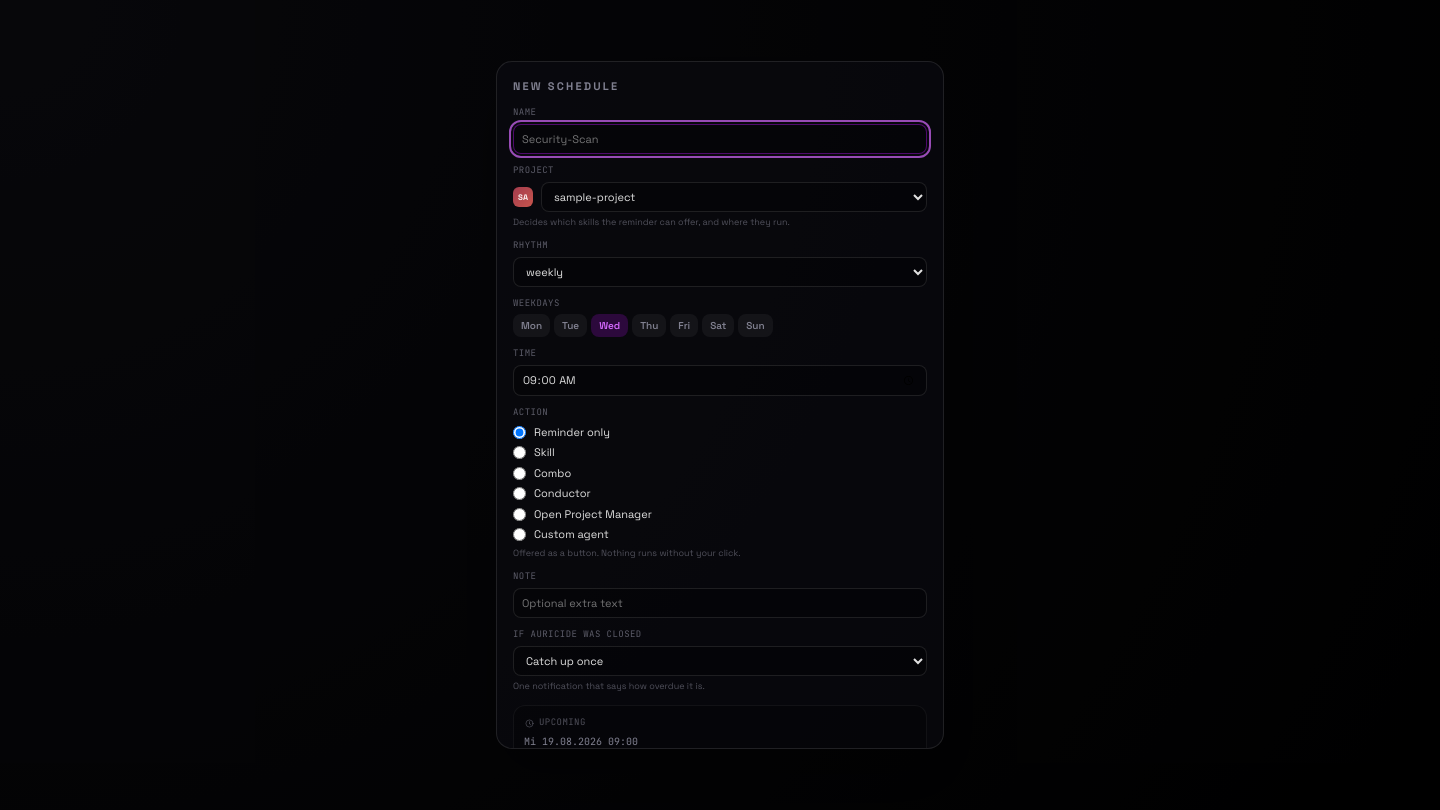
Test: ScheduleEditor › skill, combo, and the project they belong to › cannot save a Combo choice with nothing selected
Type "Weekly" into the field with test id "schedule-name" at (720, 139), box [513,124,927,154]
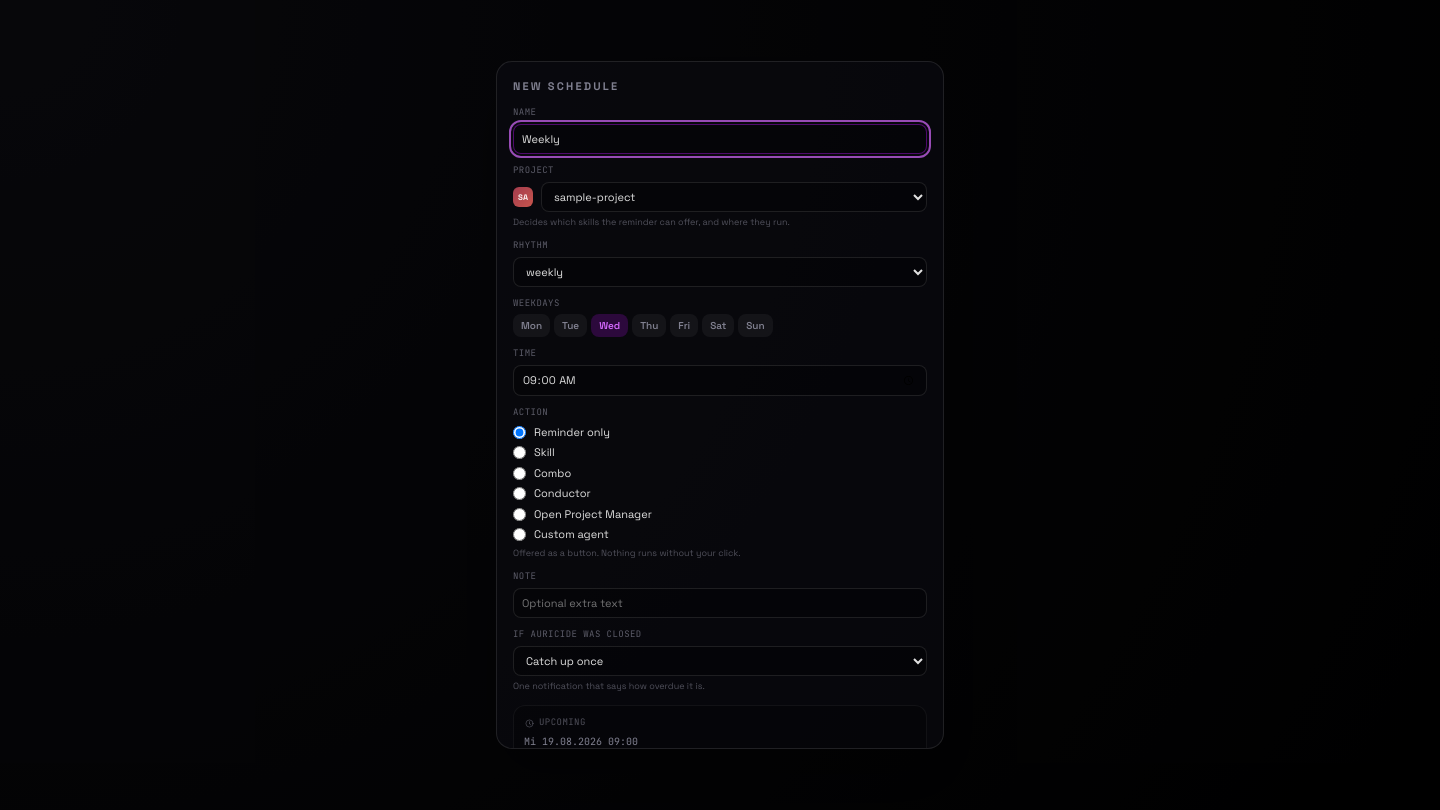
Click the radio button with test id "schedule-action-combo" at (520, 473), box [513,466,526,480]
(page scrolled)
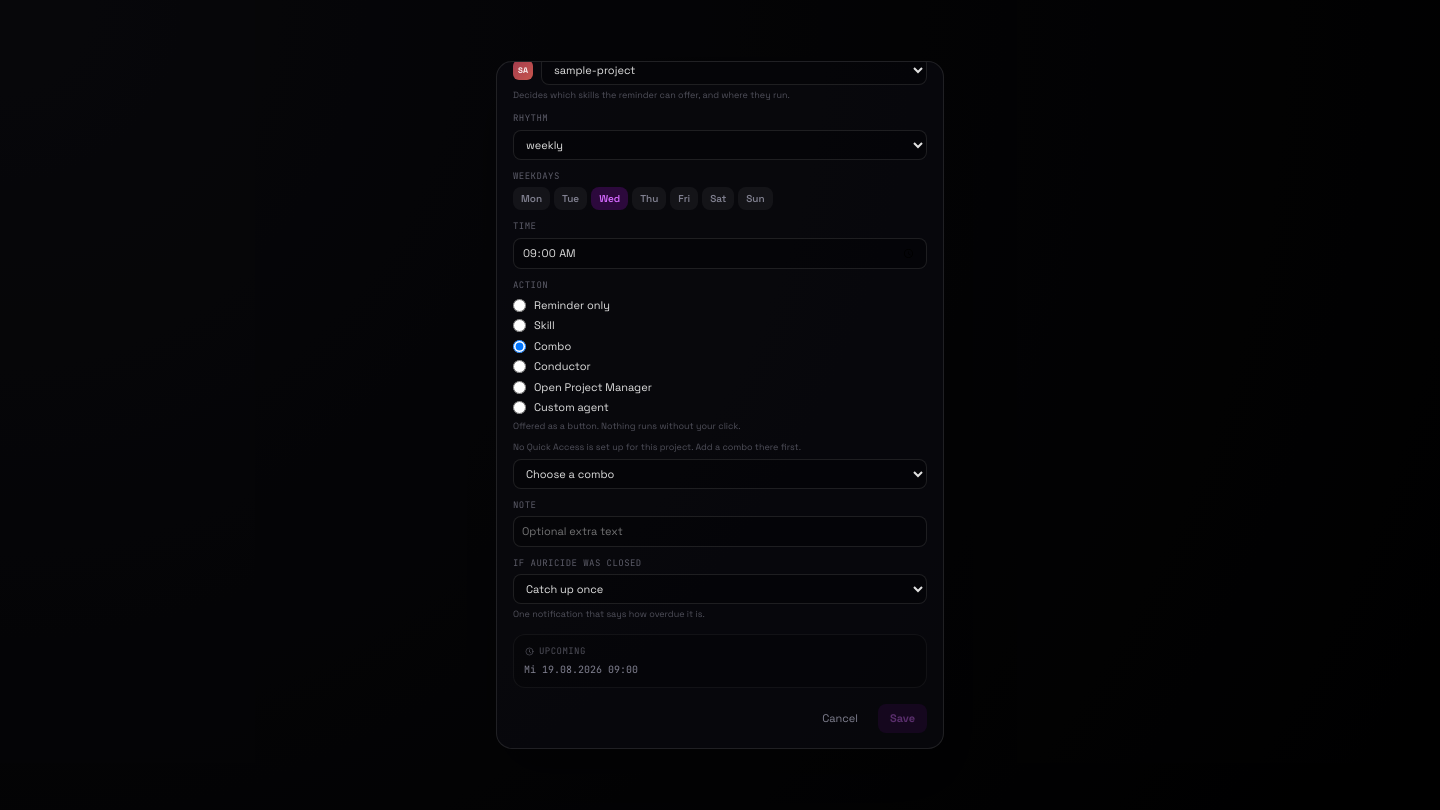
Now the button with test id "schedule-save" is disabled, box [878,704,927,733]
